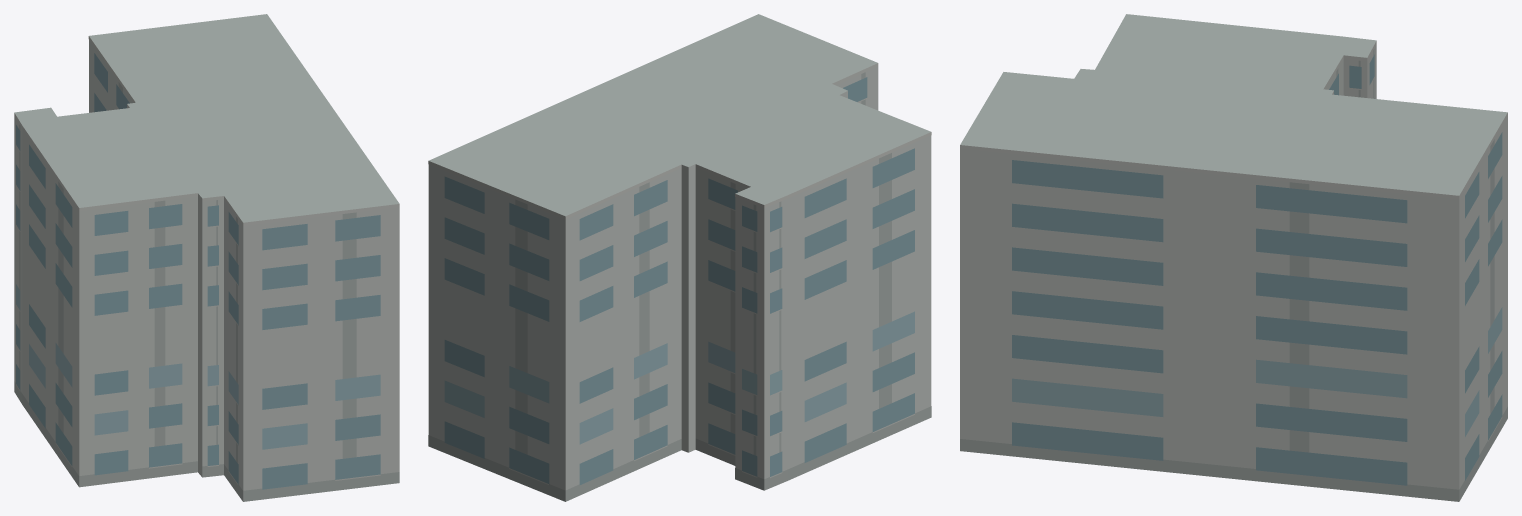
File: survey-upis-32888938.glb
The picture shows the model from 3 angles, left to right: view 1: azimuth 30°, elevation 25°; view 2: azimuth 150°, elevation 25°; view 3: azimuth 270°, elevation 25°; orthographic projection. The views are drawn at different scales.
Visible parts, largest first — view 1: survey-upis-32888938.tmp; view 2: survey-upis-32888938.tmp; view 3: survey-upis-32888938.tmp.
Part boxes in pixels (x1,y1,x2,y2): survey-upis-32888938.tmp: (14, 14, 399, 501); survey-upis-32888938.tmp: (428, 14, 931, 501); survey-upis-32888938.tmp: (960, 14, 1507, 501).
Bounding box in the file's own units: 25.8 × 20.25 × 32.86.
